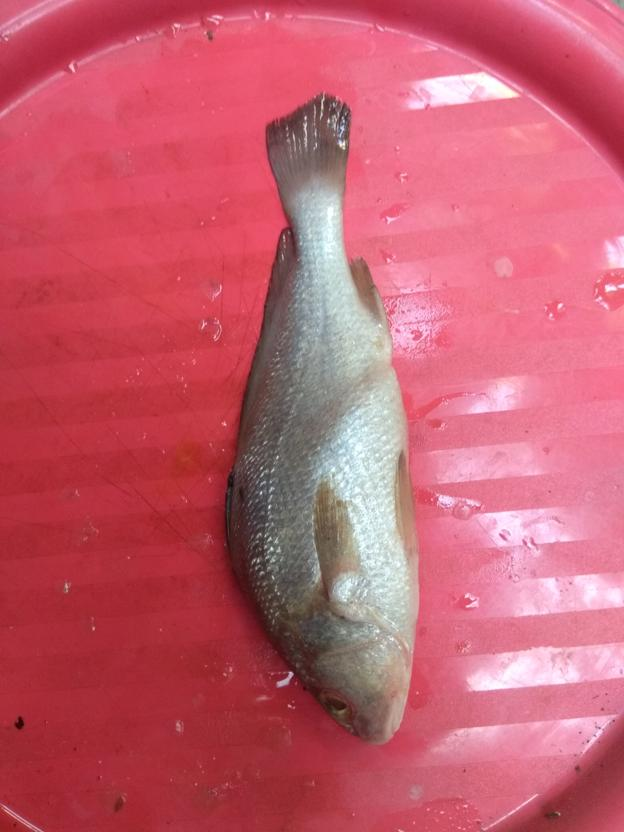Fish head: (292, 629, 415, 746)
Fish tail: (263, 92, 354, 213)
